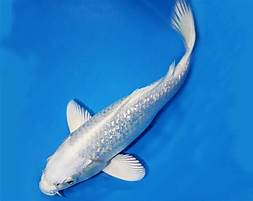white: (38, 1, 197, 196)
